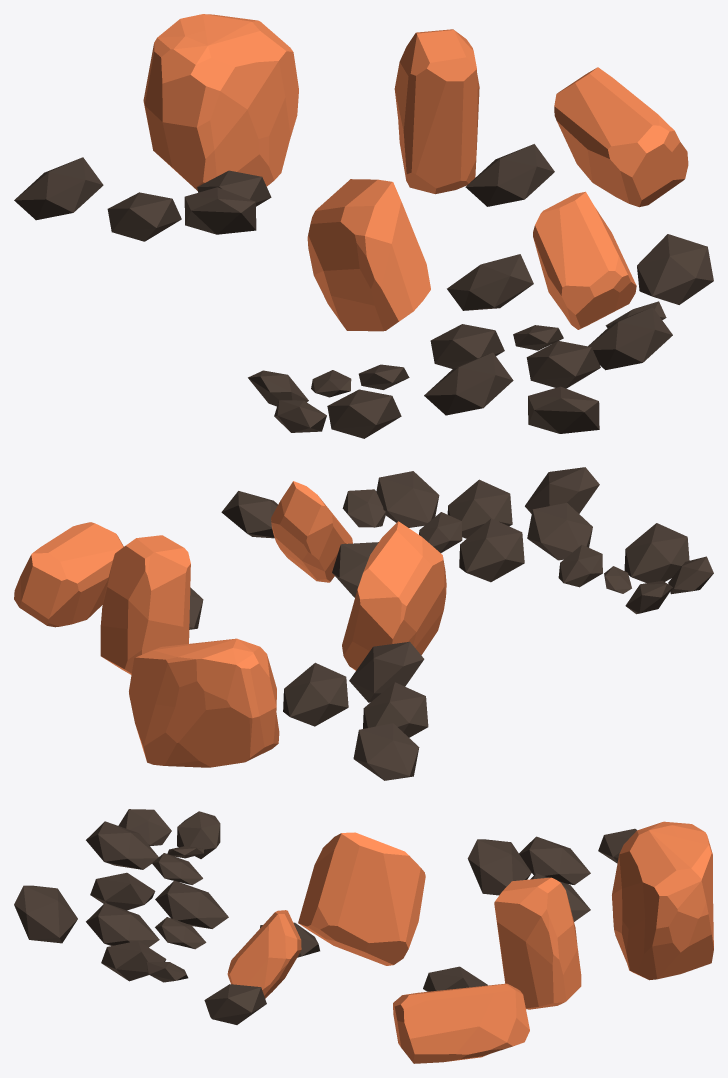
File: pedras.fbx
3 views of the same model, one above another, from view 1: azimuth 30°, elevation 25°; view 2: azimuth 150°, elevation 25°; view 3: azimuth 270°, elevation 25° (orthographic). The views are drawn at different scales.
Parts seen in each view (by area): view 1: Rock_8, Rock_9.002, Rock_9, Rock_9.001, Rock_9.003, sutr.018, sutr.015, sutr.011, sutr.009, sutr, sutr.017, sutr.002 (+11 smaller); view 2: Rock_8, Rock_9.002, Rock_9, Rock_9.001, Rock_9.003, sutr.014, sutr.003, sutr.006, sutr.011, sutr.013, sutr.009, sutr (+11 smaller); view 3: Rock_8, Rock_9.002, Rock_9, Rock_9.001, Rock_9.003, sutr.002, sutr.013, sutr.006, sutr.003, sutr.012, sutr.001, sutr.018 (+11 smaller).
Boxes of the visible parts, left/top/right/bottom form: Rock_8: left=143, top=14, right=298, bottom=190; Rock_9.002: left=307, top=179, right=430, bottom=331; Rock_9: left=394, top=29, right=479, bottom=194; Rock_9.001: left=554, top=67, right=688, bottom=207; Rock_9.003: left=533, top=191, right=636, bottom=329; sutr.018: left=637, top=234, right=713, bottom=304; sutr.015: left=465, top=144, right=554, bottom=206; sutr.011: left=14, top=157, right=103, bottom=220; sutr.009: left=424, top=352, right=513, bottom=415; sutr: left=588, top=307, right=672, bottom=370; sutr.017: left=447, top=254, right=533, bottom=310; sutr.002: left=528, top=386, right=599, bottom=433; Rock_8: left=129, top=638, right=279, bottom=767; Rock_9.002: left=342, top=521, right=446, bottom=670; Rock_9: left=100, top=535, right=190, bottom=674; Rock_9.001: left=14, top=522, right=123, bottom=627; Rock_9.003: left=271, top=481, right=352, bottom=582; sutr.014: left=283, top=662, right=348, bottom=726; sutr.003: left=459, top=518, right=524, bottom=582; sutr.006: left=624, top=523, right=689, bottom=582; sutr.011: left=353, top=723, right=419, bottom=780; sutr.013: left=349, top=641, right=424, bottom=702; sutr.009: left=527, top=503, right=592, bottom=560; sutr: left=376, top=471, right=439, bottom=527; Rock_8: left=612, top=821, right=713, bottom=980; Rock_9.002: left=298, top=832, right=425, bottom=965; Rock_9: left=494, top=877, right=581, bottom=1009; Rock_9.001: left=393, top=983, right=529, bottom=1063; Rock_9.003: left=227, top=910, right=301, bottom=998; sutr.002: left=14, top=885, right=77, bottom=943; sutr.013: left=467, top=839, right=531, bottom=895; sutr.006: left=86, top=821, right=158, bottom=869; sutr.003: left=155, top=880, right=228, bottom=928; sutr.012: left=519, top=836, right=590, bottom=884; sutr.001: left=86, top=903, right=159, bottom=947; sutr.018: left=204, top=984, right=266, bottom=1024.
Size of the model in its own units: 67294 by 20846 by 84618.
